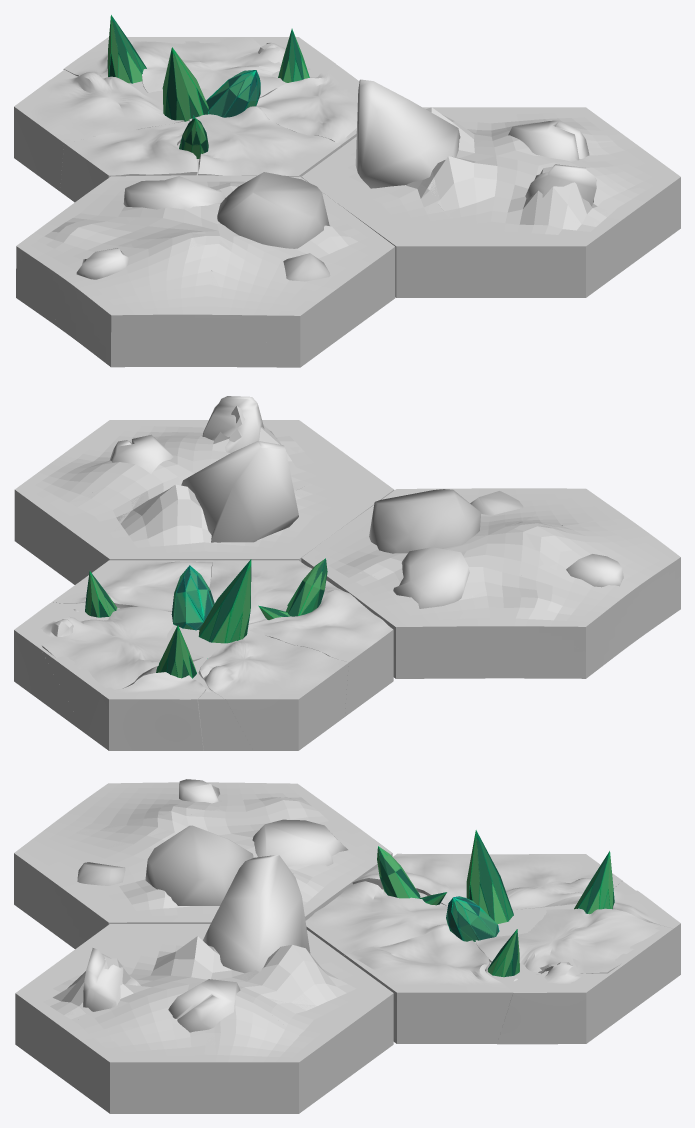
The model's file is hexagondnm.fbx.
3 views of the same model, one above another, from view 1: azimuth 30°, elevation 25°; view 2: azimuth 150°, elevation 25°; view 3: azimuth 270°, elevation 25° (orthographic).
Visible parts, largest first — view 1: Cylinder.003, Cylinder.004, Cylinder.003_cell.004, Cylinder.001_cell.002, Stone001, Cylinder.001_cell.006, Cylinder.001_cell.005, Stone01.001, Cylinder.001_cell.001, Cylinder.004_cell.003, Cylinder.001_cell.007, Cylinder.004_cell.005 (+25 smaller); view 2: Cylinder.004, Cylinder.003, Cylinder.001_cell.002, Cylinder.003_cell.002, Cylinder.003_cell.004, Stone001, Cylinder.001_cell.005, Cylinder.001_cell.003, Cylinder.001, Cylinder.001_cell.001, Stone01.001, Cylinder.004_cell.008 (+23 smaller); view 3: Cylinder.004, Cylinder.003, Cylinder.001_cell.007, Stone001, Cylinder.004_cell.001, Cylinder.001_cell.009, Cylinder.001_cell.001, Cylinder.001_cell.006, Stone01.001, Cylinder.004_cell.004, Cylinder.001, Cylinder.001_cell.002 (+23 smaller).
Part boxes in pixels (x1,y1,x2,y2): Cylinder.003: [16, 175, 395, 367]; Cylinder.004: [301, 107, 680, 297]; Cylinder.003_cell.004: [51, 233, 255, 367]; Cylinder.001_cell.002: [14, 72, 184, 191]; Stone001: [355, 79, 460, 188]; Cylinder.001_cell.006: [189, 106, 341, 176]; Cylinder.001_cell.005: [60, 120, 197, 202]; Stone01.001: [217, 172, 329, 248]; Cylinder.001_cell.001: [131, 37, 286, 98]; Cylinder.004_cell.003: [423, 131, 620, 233]; Cylinder.001_cell.007: [252, 64, 359, 146]; Cylinder.004_cell.005: [321, 184, 464, 283]; Cylinder.004: [14, 405, 393, 584]; Cylinder.003: [301, 488, 680, 678]; Cylinder.001_cell.002: [198, 630, 348, 750]; Cylinder.003_cell.002: [429, 584, 625, 678]; Cylinder.003_cell.004: [525, 512, 680, 647]; Stone001: [181, 441, 298, 542]; Cylinder.001_cell.005: [248, 589, 393, 716]; Cylinder.001_cell.003: [87, 672, 206, 750]; Cylinder.001: [14, 560, 348, 750]; Cylinder.001_cell.001: [41, 606, 203, 689]; Stone01.001: [369, 489, 481, 553]; Cylinder.004_cell.008: [27, 475, 143, 584]; Cylinder.004: [15, 924, 393, 1113]; Cylinder.003: [14, 782, 392, 948]; Cylinder.001_cell.007: [345, 926, 510, 1043]; Stone001: [203, 855, 310, 973]; Cylinder.004_cell.001: [101, 1023, 216, 1113]; Cylinder.001_cell.009: [497, 962, 656, 1044]; Cylinder.001_cell.001: [475, 908, 659, 973]; Cylinder.001_cell.006: [305, 881, 448, 956]; Stone01.001: [145, 825, 253, 905]; Cylinder.004_cell.004: [214, 999, 319, 1113]; Cylinder.001: [344, 881, 673, 1043]; Cylinder.001_cell.002: [489, 854, 622, 909].
Size of the model in its own units: 347 by 89.54 by 353.
